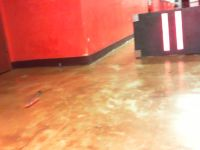switch: (174, 11, 185, 50), (161, 13, 171, 51)
